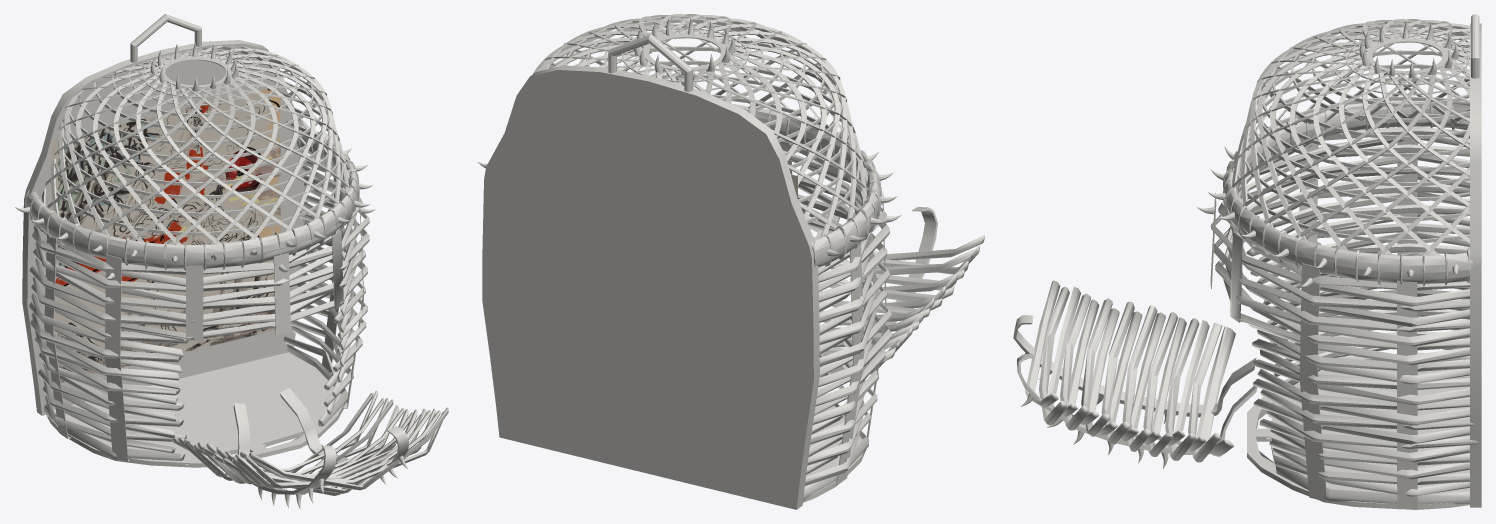
File: goose-cage.glb
3 renders of one model, left to right at view 1: azimuth 30°, elevation 25°; view 2: azimuth 150°, elevation 25°; view 3: azimuth 270°, elevation 25°, orthographic. The views are drawn at different scales.
Parts seen in each view (by area): view 1: ho193, ho189, The Goose Cage with thorns-A Ride in a Goose Cage, Cube.005, ho193.001, Cube.004, ho196, Cube.001, Cube.003, Cube.002, Torus; view 2: Cube.005, ho189, ho193, ho193.001, ho196, Torus, Cube.003, Cube.001; view 3: ho193, ho189, ho193.001, ho196, Cube.005, Cube.004, Cube.001, Cube.003, Cube.002, Torus.
Boxes of the visible parts, x1,y1,x2,y2 form: ho193: (24, 125, 369, 460); ho189: (41, 45, 351, 261); The Goose Cage with thorns-A Ride in a Goose Cage: (50, 84, 280, 382); Cube.005: (22, 40, 307, 415); ho193.001: (172, 391, 448, 495); Cube.004: (174, 352, 345, 457); ho196: (44, 177, 363, 465); Cube.001: (47, 385, 264, 467); Cube.003: (233, 403, 336, 494); Cube.002: (279, 388, 409, 472); Torus: (130, 14, 201, 62); Cube.005: (482, 65, 819, 509); ho189: (533, 14, 868, 236); ho193: (731, 103, 891, 501); ho193.001: (808, 217, 984, 373); ho196: (779, 143, 886, 485); Torus: (608, 34, 692, 91); Cube.003: (819, 207, 937, 377); Cube.001: (803, 406, 866, 502); ho193: (1210, 96, 1478, 504); ho189: (1223, 19, 1469, 255); ho193.001: (1025, 280, 1235, 462); ho196: (1210, 127, 1417, 509); Cube.005: (1470, 23, 1481, 507); Cube.004: (1247, 433, 1469, 509); Cube.001: (1247, 362, 1469, 432); Cube.003: (1013, 315, 1256, 417); Cube.002: (1017, 353, 1257, 454); Torus: (1471, 14, 1479, 78).
Bounding box in the file's own units: 2.22 × 2.52 × 2.47.
2 materials, 1 textured.
